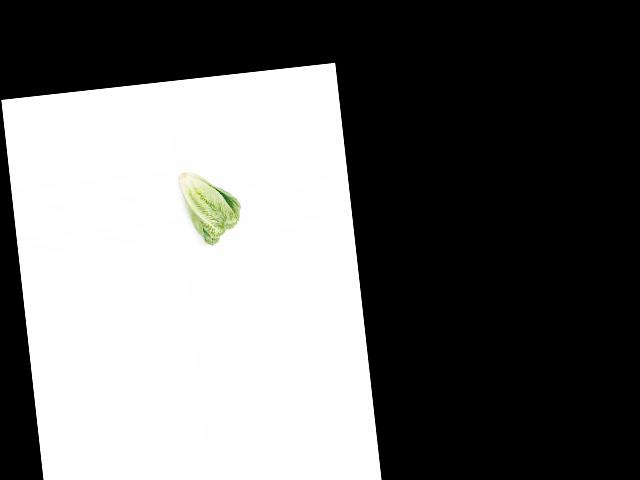lettuce: (175, 161, 243, 248)
